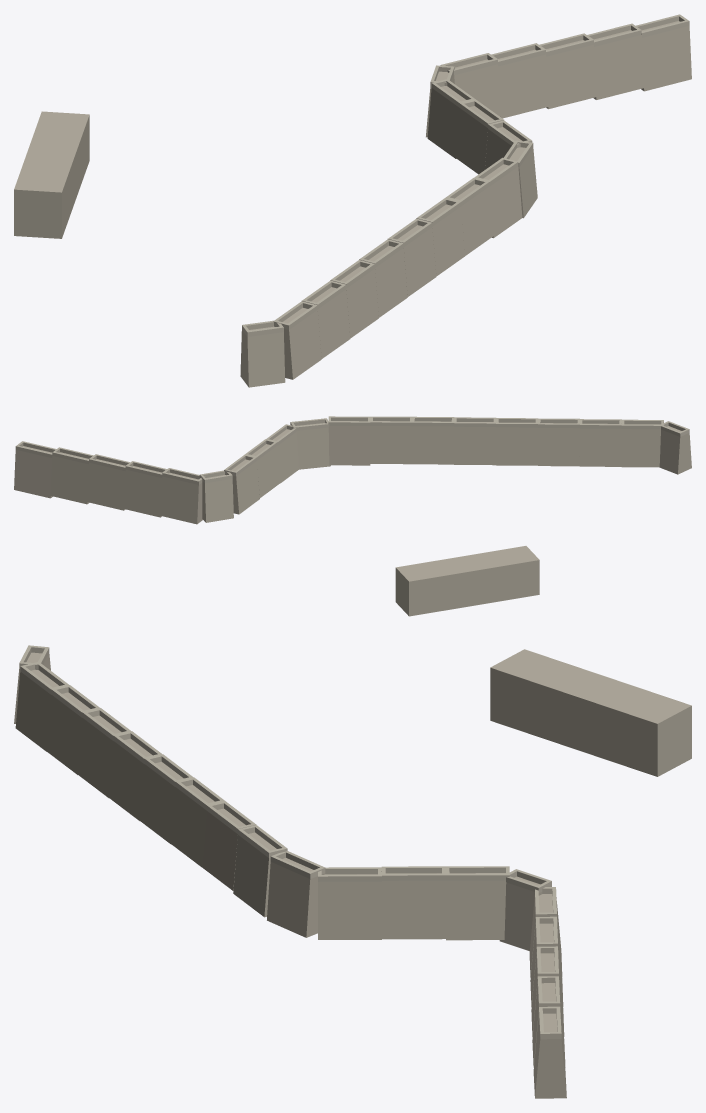
The model's file is bormla_60_33_collision.glb.
The picture shows the model from 3 angles, top to bottom: view 1: azimuth 30°, elevation 25°; view 2: azimuth 150°, elevation 25°; view 3: azimuth 270°, elevation 25°; orthographic projection. The views are drawn at different scales.
Parts seen in each view (by area): view 1: geometry_0; view 2: geometry_0; view 3: geometry_0.
Part boxes in pixels (x1,y1,x2,y2): geometry_0: [14, 14, 691, 387]; geometry_0: [14, 416, 691, 616]; geometry_0: [14, 645, 691, 1098].
Size of the model in its own units: 170 by 17.46 by 127.
